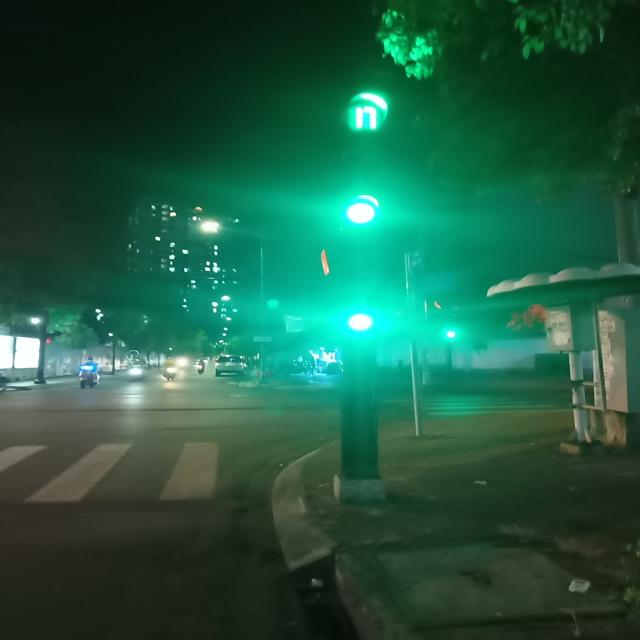Green: (332, 140, 389, 230), (342, 290, 382, 350)
